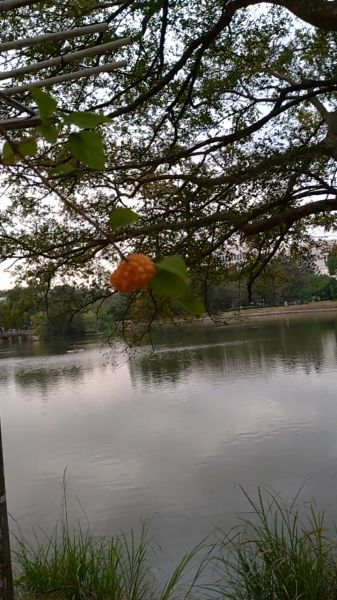eggs: (106, 249, 157, 299)
